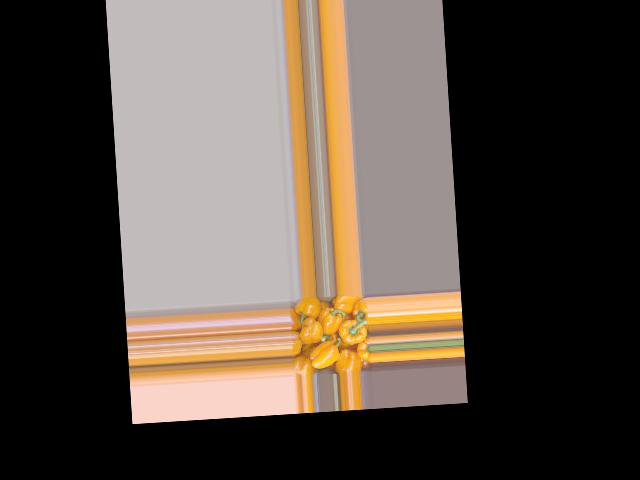bell_pepper: (288, 305, 307, 336)
